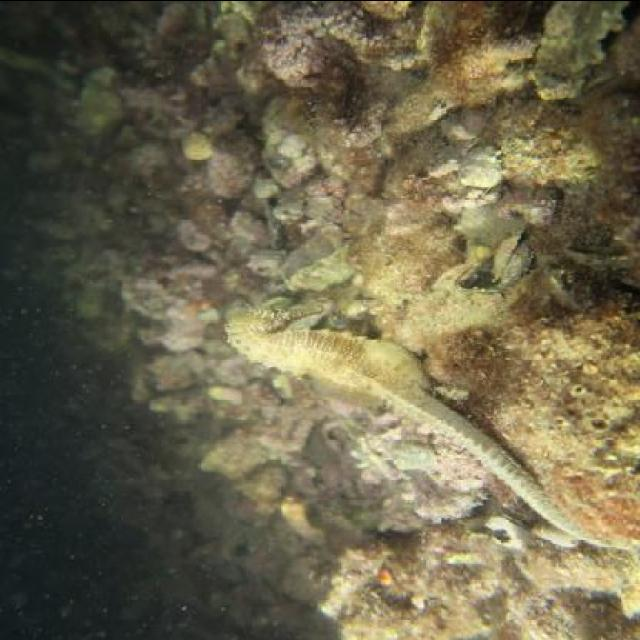Guttu: (218, 291, 332, 337)
